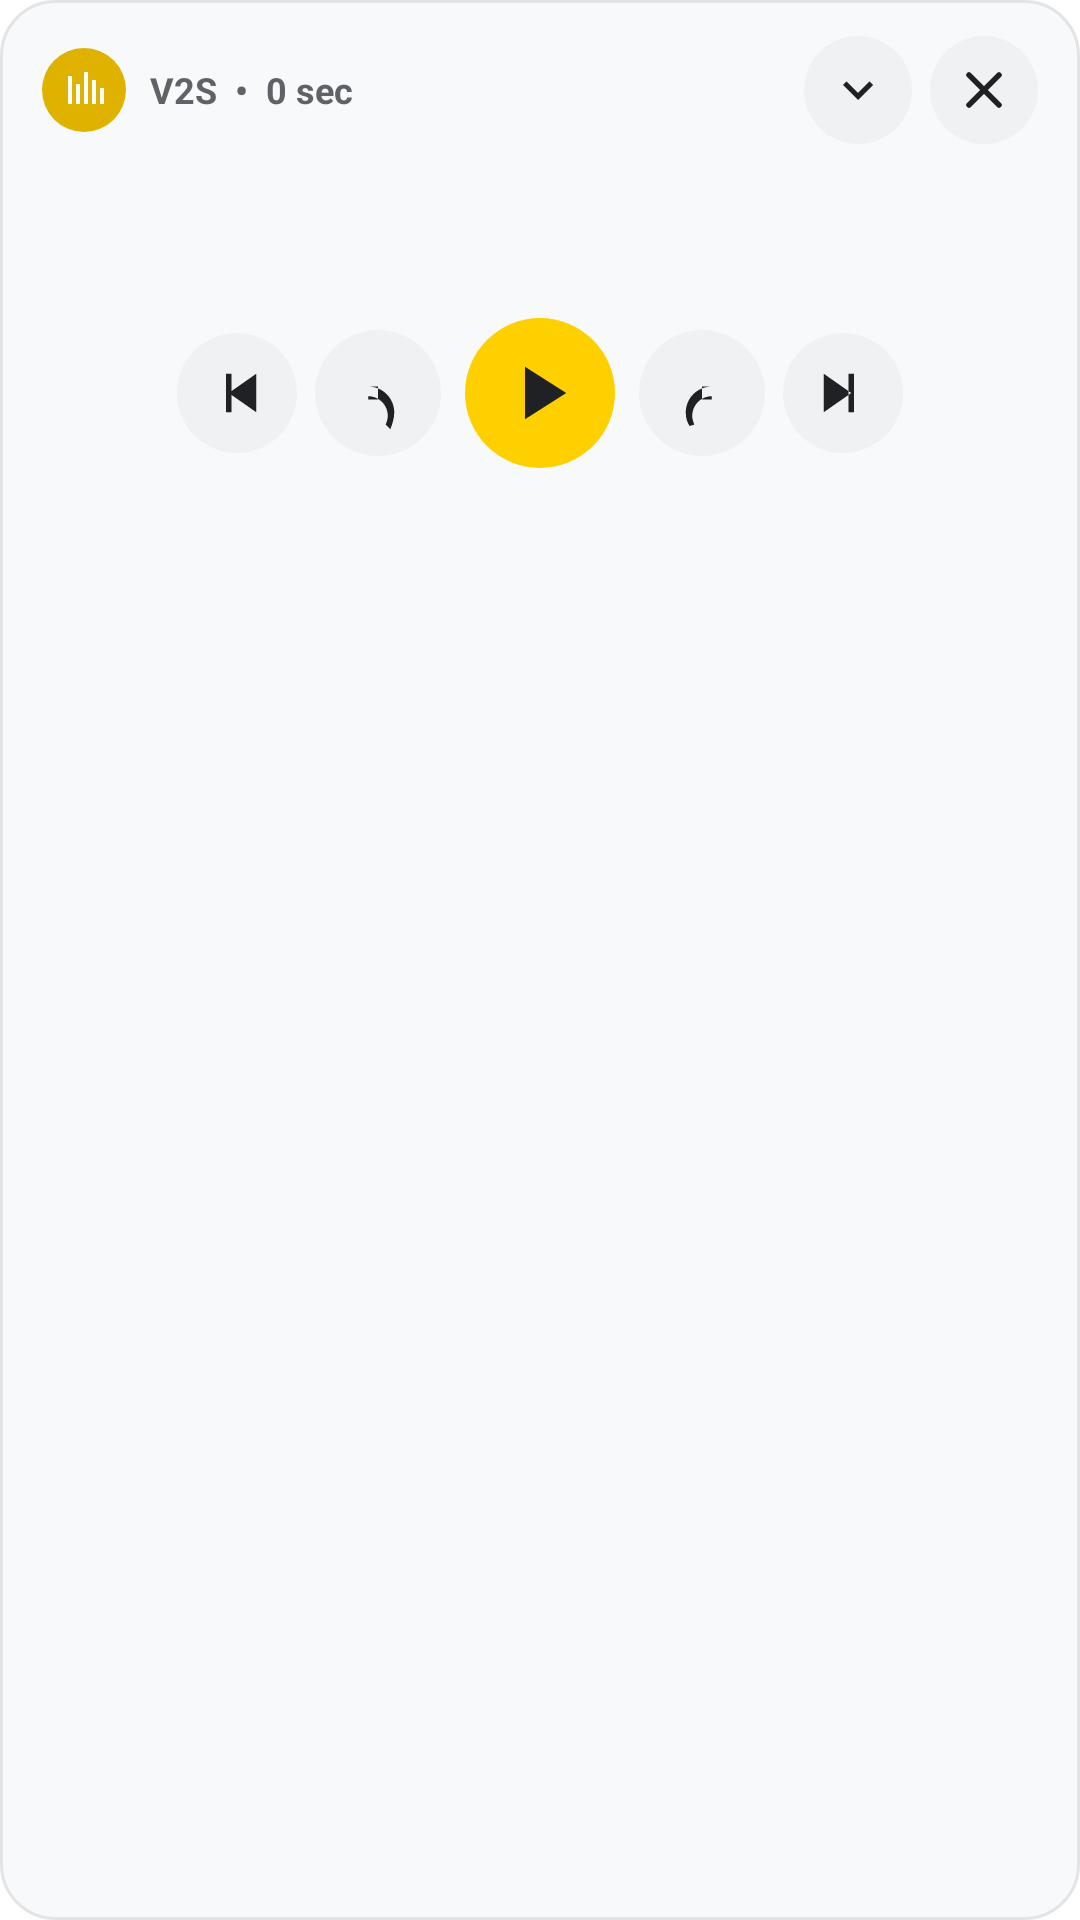

Named icons in this screenshot (1080x1920) and their centers, (x=x, y=y):
Close notification and application: (x=984, y=90)
Expand: (x=858, y=90)
Next track: (x=838, y=393)
Play or pause: (x=540, y=393)
Previous track: (x=241, y=393)
